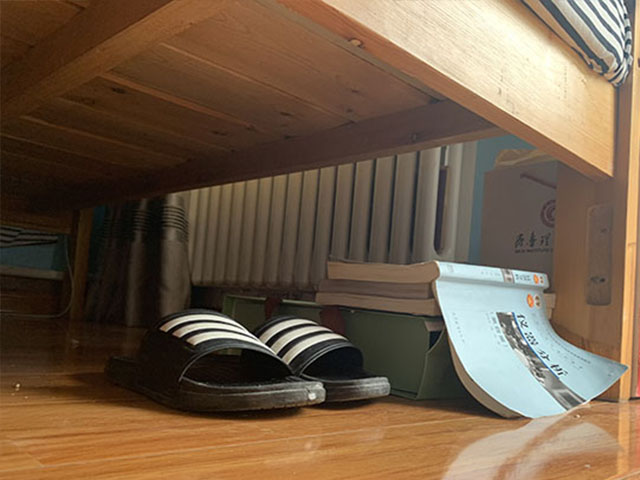book: (436, 260, 629, 420), (318, 258, 445, 313)
curtain: (85, 196, 196, 322)
slippers: (106, 311, 318, 412), (252, 311, 393, 407)
wire: (1, 300, 70, 322)
